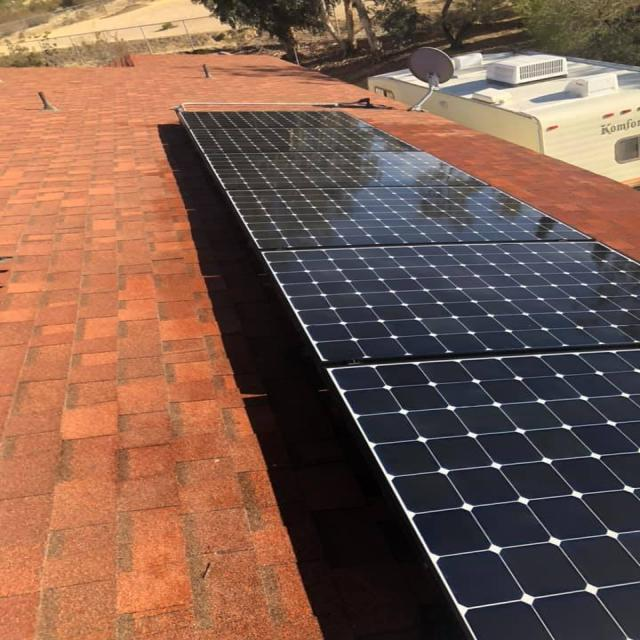clean-solar-panel: (180, 106, 638, 640)
